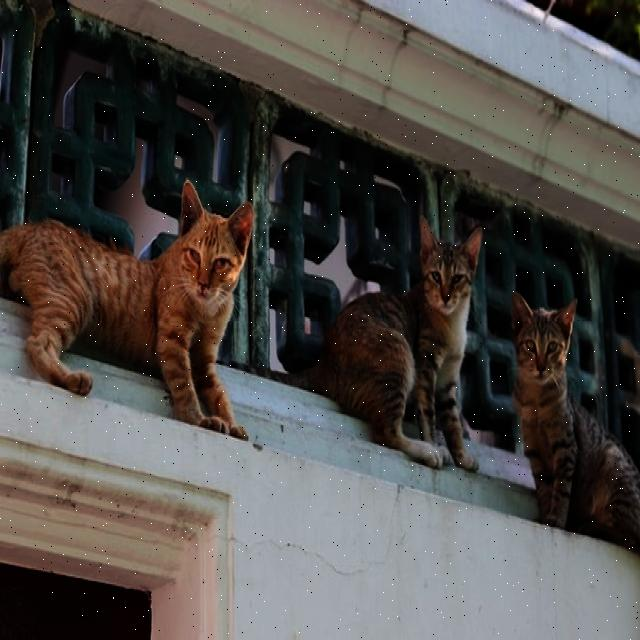cat: (0, 180, 254, 437), (281, 217, 482, 471), (511, 294, 640, 549)
